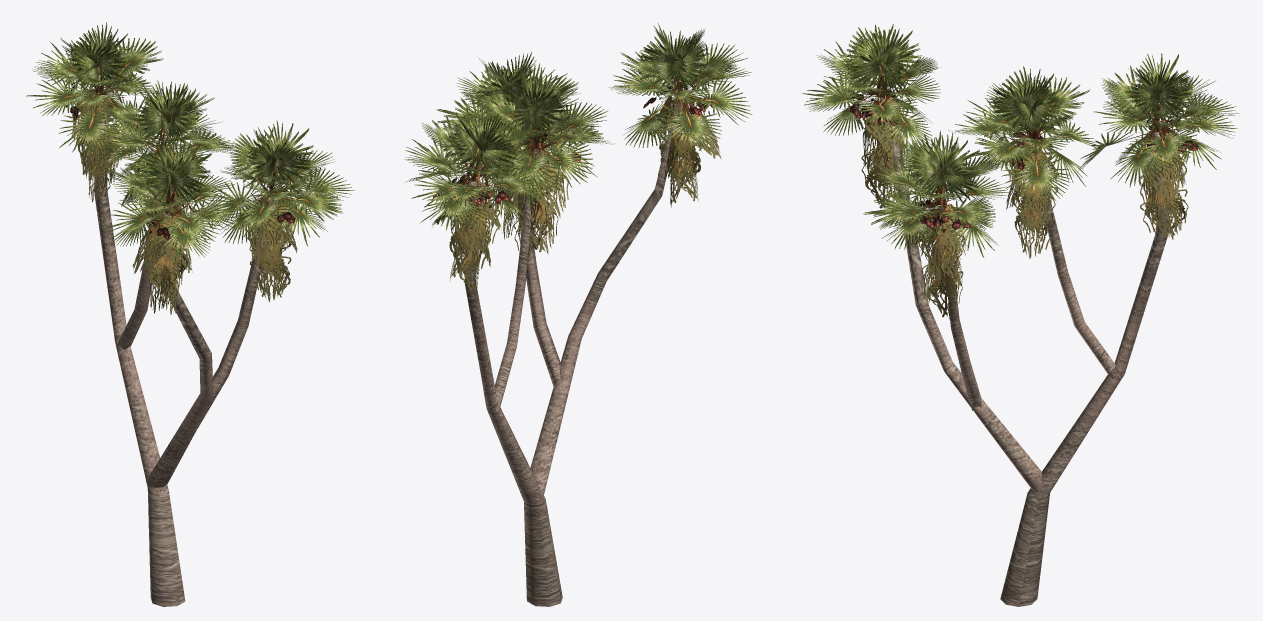
File: palm_doum_2.glb
3 renders of one model, left to right at view 1: azimuth 30°, elevation 25°; view 2: azimuth 150°, elevation 25°; view 3: azimuth 270°, elevation 25°, orthographic. The views are drawn at different scales.
Parts seen in each view (by area): view 1: palm_doum_2; view 2: palm_doum_2; view 3: palm_doum_2.
Part boxes in pixels (box(x1,y1,x2,y2)): palm_doum_2: box(26, 22, 354, 606); palm_doum_2: box(404, 23, 752, 606); palm_doum_2: box(801, 24, 1238, 606).
Size of the model in its own units: 12.42 by 22.6 by 17.21.
1 material, 1 textured.
